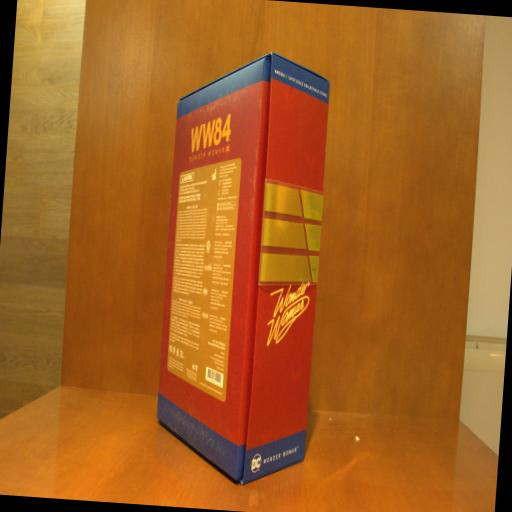WonderWoman: (150, 44, 338, 490)
